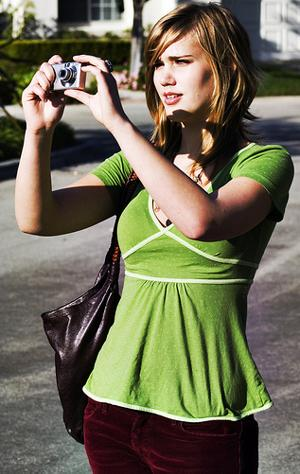person: (14, 4, 294, 471)
